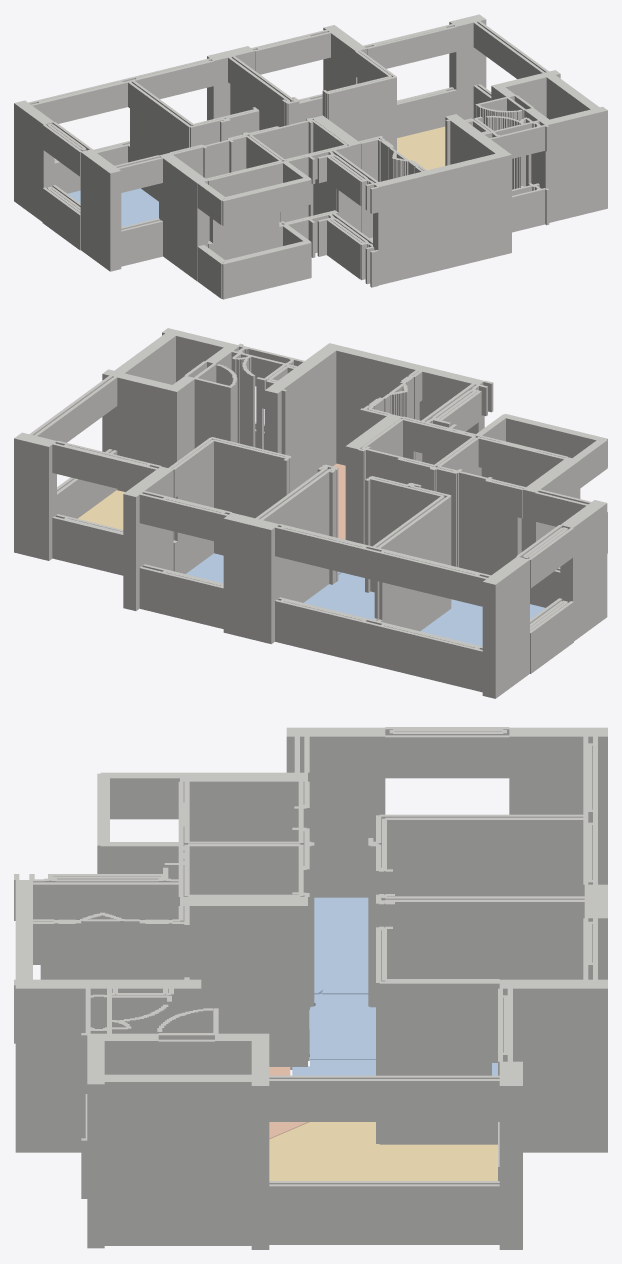
3 views of the same model, one above another, from view 1: azimuth 30°, elevation 25°; view 2: azimuth 150°, elevation 25°; view 3: azimuth 270°, elevation 25° (orthographic). The views are drawn at different scales.
Parts seen in each view (by area): view 1: walls, room:living:2, room:bedroom:11; view 2: walls, room:bedroom:10, room:bedroom:11, room:living:2, room:bedroom:3, room:kitchen:0; view 3: walls, room:living:2, room:bedroom:11, room:bedroom:10, room:bedroom:3.
Part boxes in pixels (x1,y1,x2,y2): walls: (14, 14, 607, 299); room:living:2: (397, 126, 445, 170); room:bedroom:11: (68, 188, 158, 227); walls: (14, 328, 607, 698); room:bedroom:10: (304, 572, 374, 619); room:bedroom:11: (420, 599, 545, 646); room:living:2: (78, 490, 125, 529); room:bedroom:3: (186, 553, 341, 583); room:kitchen:0: (333, 463, 345, 539); walls: (14, 727, 607, 1249); room:living:2: (269, 1122, 497, 1180); room:bedroom:11: (314, 897, 368, 994); room:bedroom:10: (309, 994, 375, 1059); room:bedroom:3: (292, 1059, 497, 1075).
Size of the model in its own units: 13.15 by 2.8 by 9.2.
